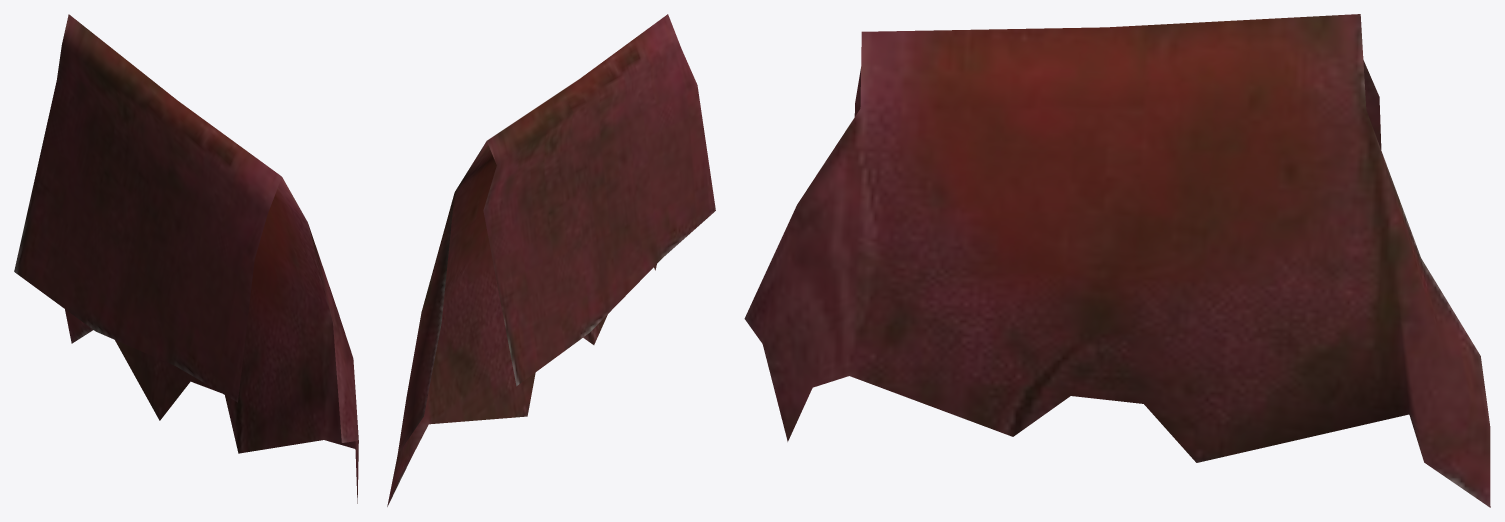
Rendered from Tee_02.FBX.
The picture shows the model from 3 angles, left to right: view 1: azimuth 30°, elevation 25°; view 2: azimuth 150°, elevation 25°; view 3: azimuth 270°, elevation 25°; orthographic projection. The views are drawn at different scales.
Parts seen in each view (by area): view 1: Tee_02; view 2: Tee_02; view 3: Tee_02.
Part boxes in pixels (x1,y1,x2,y2): Tee_02: (14, 14, 358, 503); Tee_02: (387, 14, 715, 506); Tee_02: (744, 14, 1490, 507).
Bounding box in the file's own units: 10.27 × 36.37 × 53.38.
